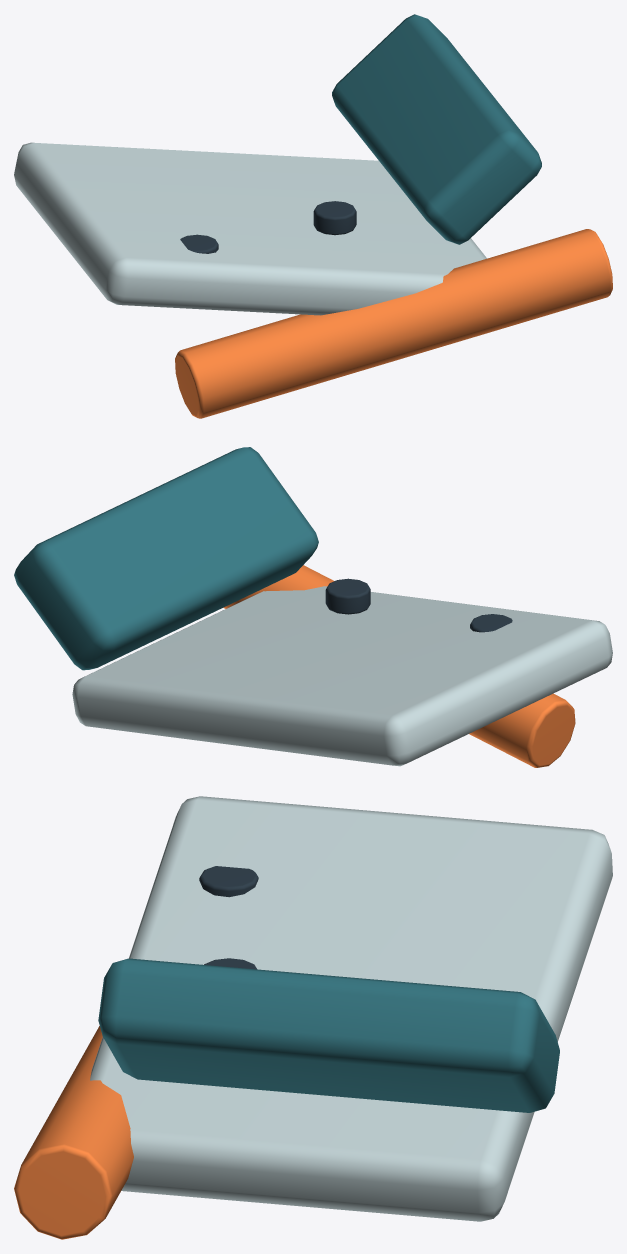
The model's file is Scrap_Metal.glb.
The picture shows the model from 3 angles, top to bottom: view 1: azimuth 30°, elevation 25°; view 2: azimuth 150°, elevation 25°; view 3: azimuth 270°, elevation 25°; orthographic projection. The views are drawn at different scales.
Parts seen in each view (by area): view 1: Bent salvage plate, Salvaged rod, Bent flange, Rivet.001, Rivet; view 2: Bent salvage plate, Bent flange, Salvaged rod, Rivet.001, Rivet; view 3: Bent salvage plate, Bent flange, Salvaged rod, Rivet.
Part boxes in pixels (x1,y1,x2,y2): Bent salvage plate: (14, 142, 486, 315); Salvaged rod: (175, 229, 612, 418); Bent flange: (332, 14, 541, 244); Rivet.001: (313, 201, 356, 235); Rivet: (180, 234, 218, 253); Bent salvage plate: (72, 586, 612, 766); Bent flange: (14, 447, 318, 670); Salvaged rod: (223, 565, 575, 767); Rivet.001: (325, 578, 370, 614); Rivet: (470, 614, 512, 632); Bent salvage plate: (90, 796, 612, 1221); Bent flange: (98, 958, 559, 1112); Salvaged rod: (14, 1026, 133, 1239); Rivet: (199, 866, 258, 897).
Bounding box in the file's own units: 0.6604 × 0.3077 × 0.5387.
